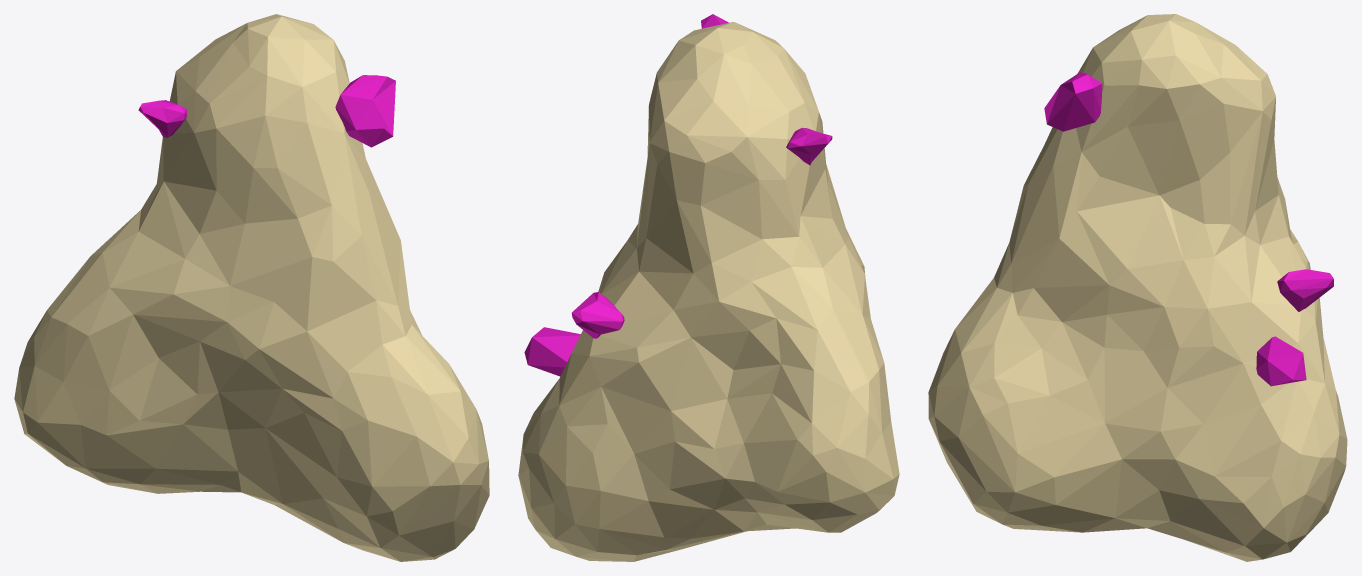
File: CrystalOre (26).fbx
The picture shows the model from 3 angles, left to right: view 1: azimuth 30°, elevation 25°; view 2: azimuth 150°, elevation 25°; view 3: azimuth 270°, elevation 25°; orthographic projection. The views are drawn at different scales.
Parts seen in each view (by area): view 1: Asteroid246; view 2: Asteroid246; view 3: Asteroid246.
Part boxes in pixels (<box>): Asteroid246: <box>14,14,489,561</box>; Asteroid246: <box>518,14,899,561</box>; Asteroid246: <box>928,14,1347,561</box>.
Bounding box in the file's own units: 159 × 218 × 166.
